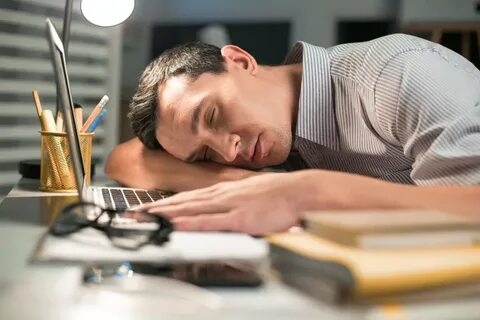sleep: (104, 38, 479, 227)
